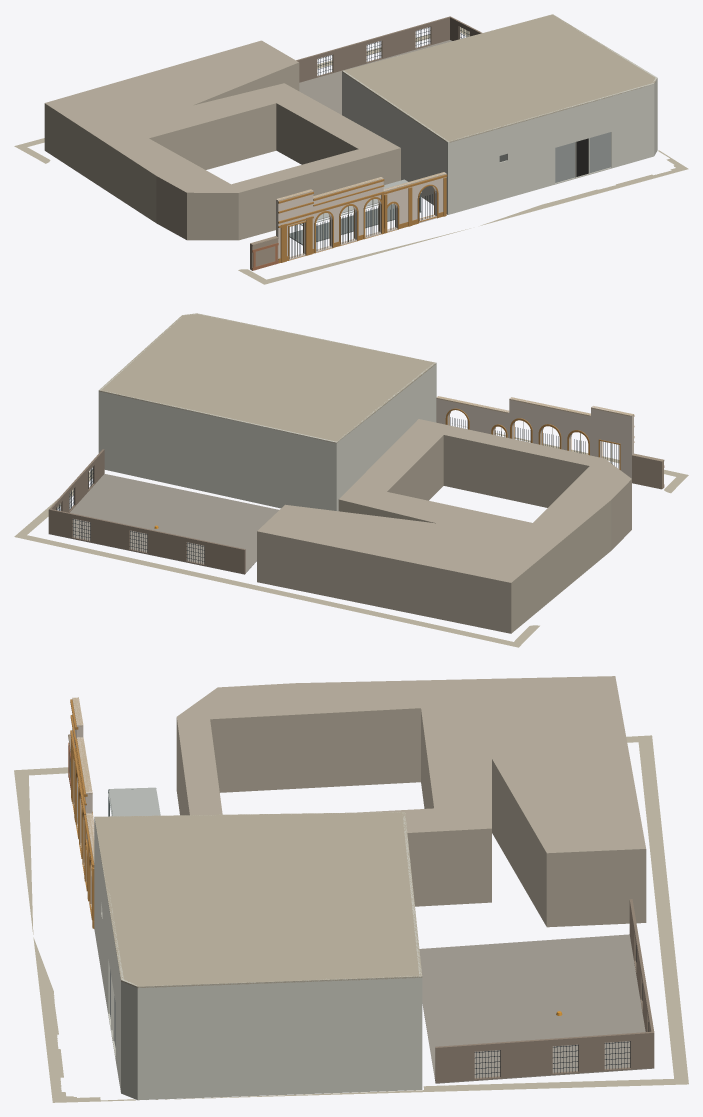
3 renders of one model, top to bottom at view 1: azimuth 30°, elevation 25°; view 2: azimuth 150°, elevation 25°; view 3: azimuth 270°, elevation 25°, orthographic. The views are drawn at different scales.
Parts seen in each view (by area): view 1: edificio; view 2: edificio; view 3: edificio.
Boxes of the visible parts, x1,y1,x2,y2 form: edificio: (14,14,688,284); edificio: (14,313,688,647); edificio: (14,676,688,1102).
Bounding box in the file's own units: 65.99 × 9.5 × 51.22.
